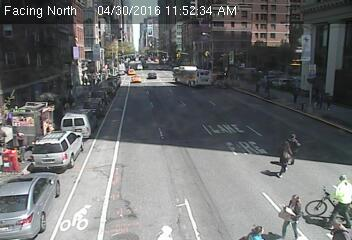neg: (109, 112, 137, 149), (68, 138, 95, 174), (205, 156, 230, 189), (52, 27, 75, 58), (19, 27, 40, 54), (107, 26, 127, 52), (42, 88, 61, 114), (220, 25, 239, 50), (33, 166, 51, 190), (7, 193, 24, 216), (77, 20, 93, 41), (173, 19, 188, 39), (187, 109, 202, 129), (121, 68, 135, 87), (149, 58, 162, 76), (129, 27, 141, 44), (149, 25, 161, 40), (204, 28, 215, 44), (250, 24, 261, 38)
pos: (276, 191, 311, 237), (322, 172, 351, 226), (271, 141, 297, 176), (6, 129, 30, 161), (324, 91, 338, 110), (312, 90, 326, 108), (263, 82, 277, 100), (290, 87, 302, 103), (81, 76, 91, 88)
